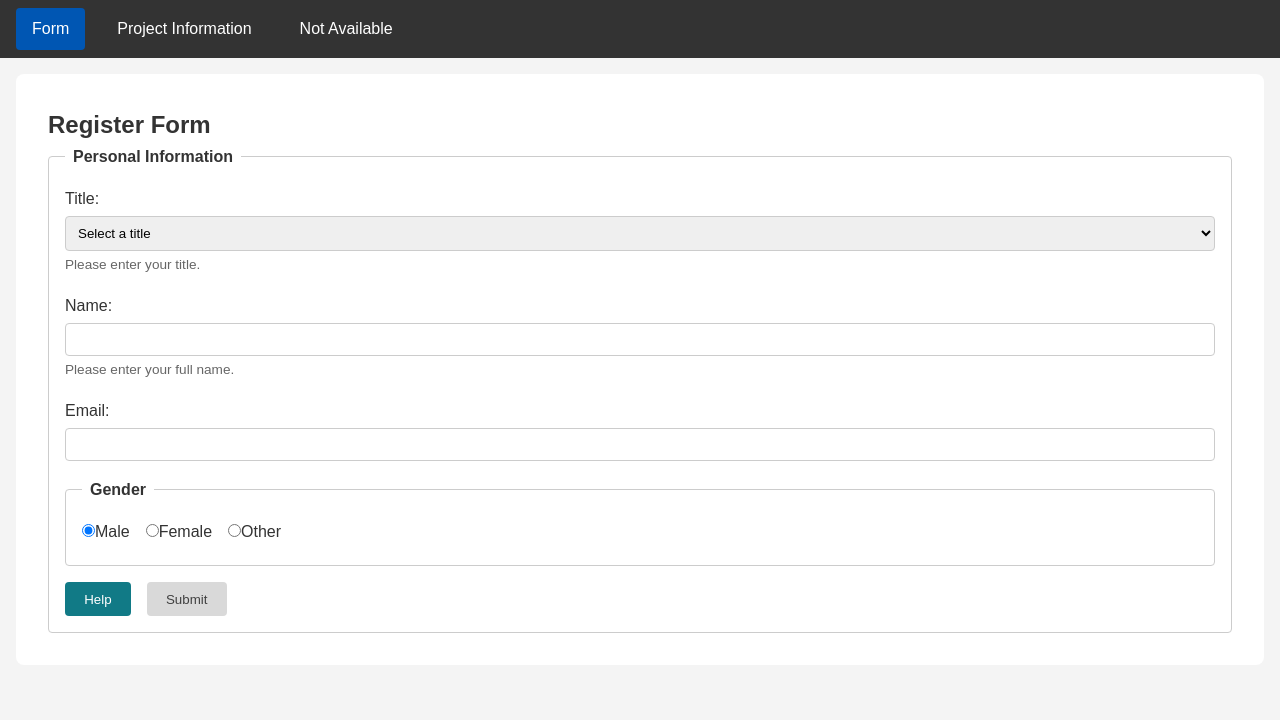
Test case: Accessibility and Functional Coverage Tests › Should open and close the Help modal with accessibility considerations
The image size is (1280, 720).
Note: Open the Help modal
Click the button "Help" at (98,599), box top-left (65, 582), bottom-right (131, 616)
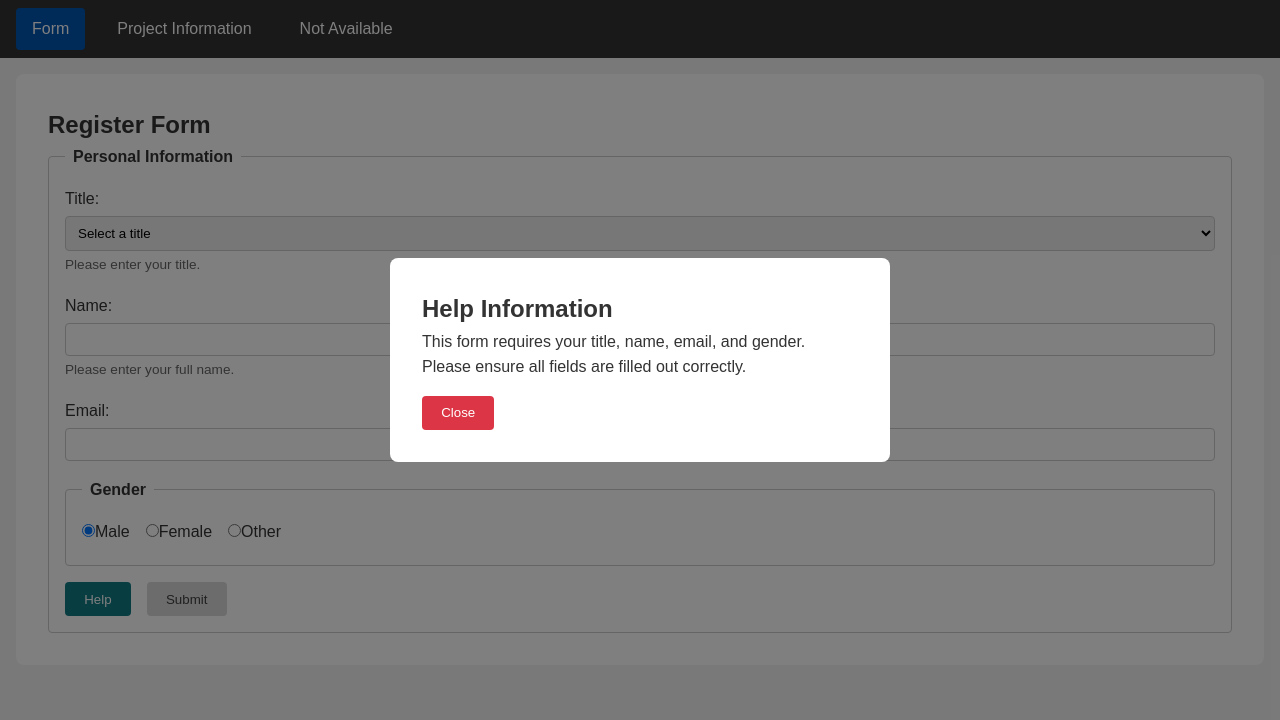
Expected: the dialog "Help Information" is shown
Note: Close the modal using the close button
Click the button with aria-label "close help modal" at (459,413), box top-left (422, 396), bottom-right (495, 430)
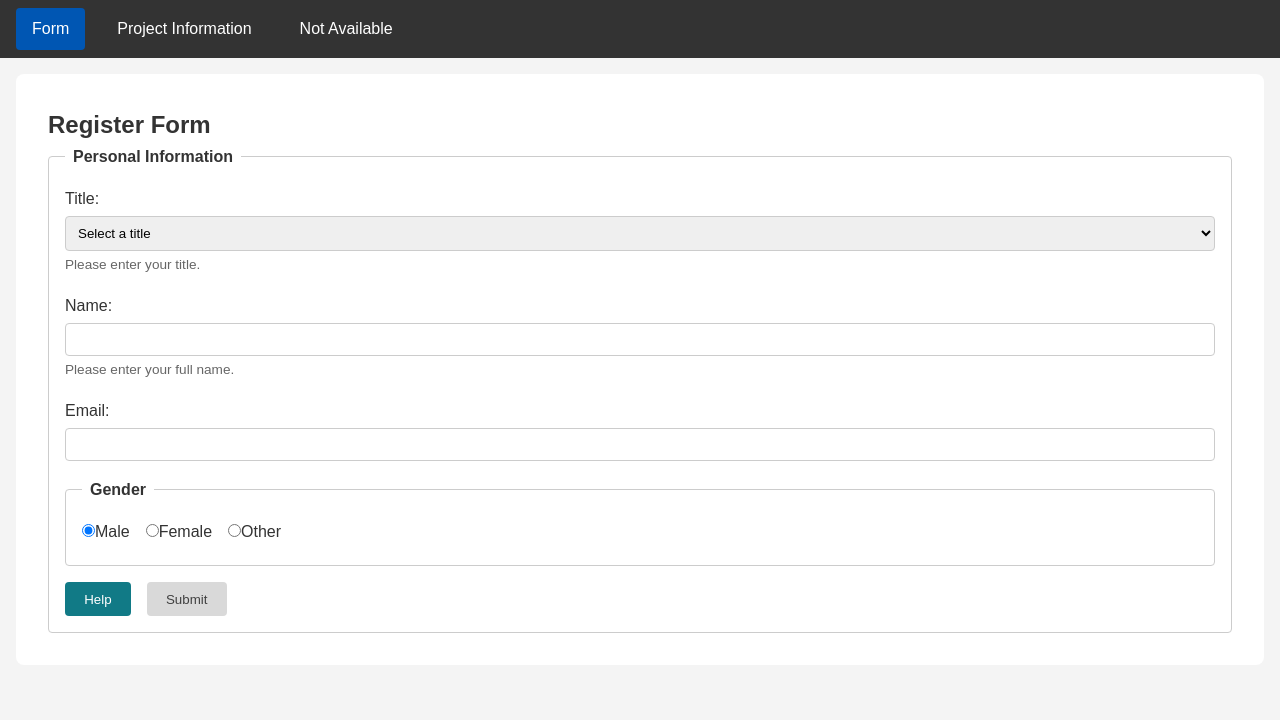
Expected: the heading "Help Information" is gone
